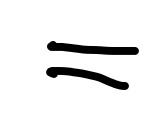eqv: (45, 37, 141, 92)
